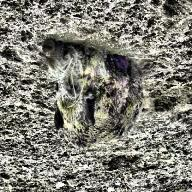boar: (45, 37, 150, 157)
